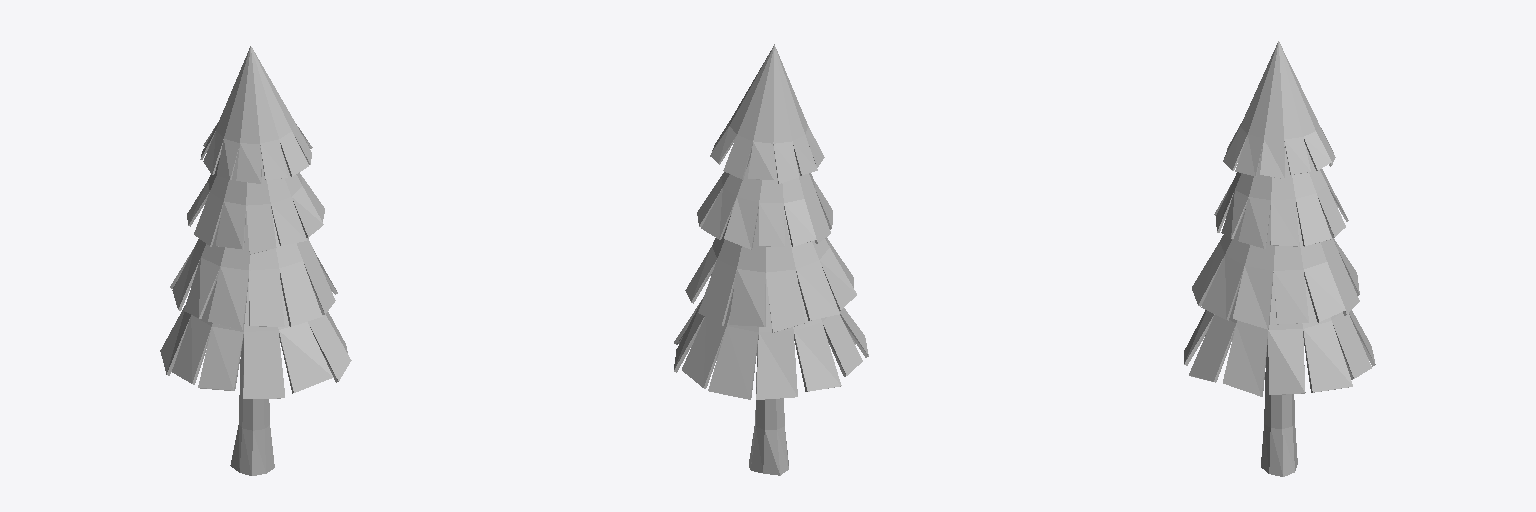
The model's file is tree.obj.
The picture shows the model from 3 angles: view 1: azimuth 30°, elevation 25°; view 2: azimuth 150°, elevation 25°; view 3: azimuth 270°, elevation 25°; orthographic projection.
Visible parts, largest first — view 1: Tree; view 2: Tree; view 3: Tree.
Boxes of the visible parts, <box> form: Tree: <box>160,46,351,475</box>; Tree: <box>674,44,868,475</box>; Tree: <box>1184,41,1375,476</box>.
Bounding box in the file's own units: 1.23 × 3.05 × 1.25.